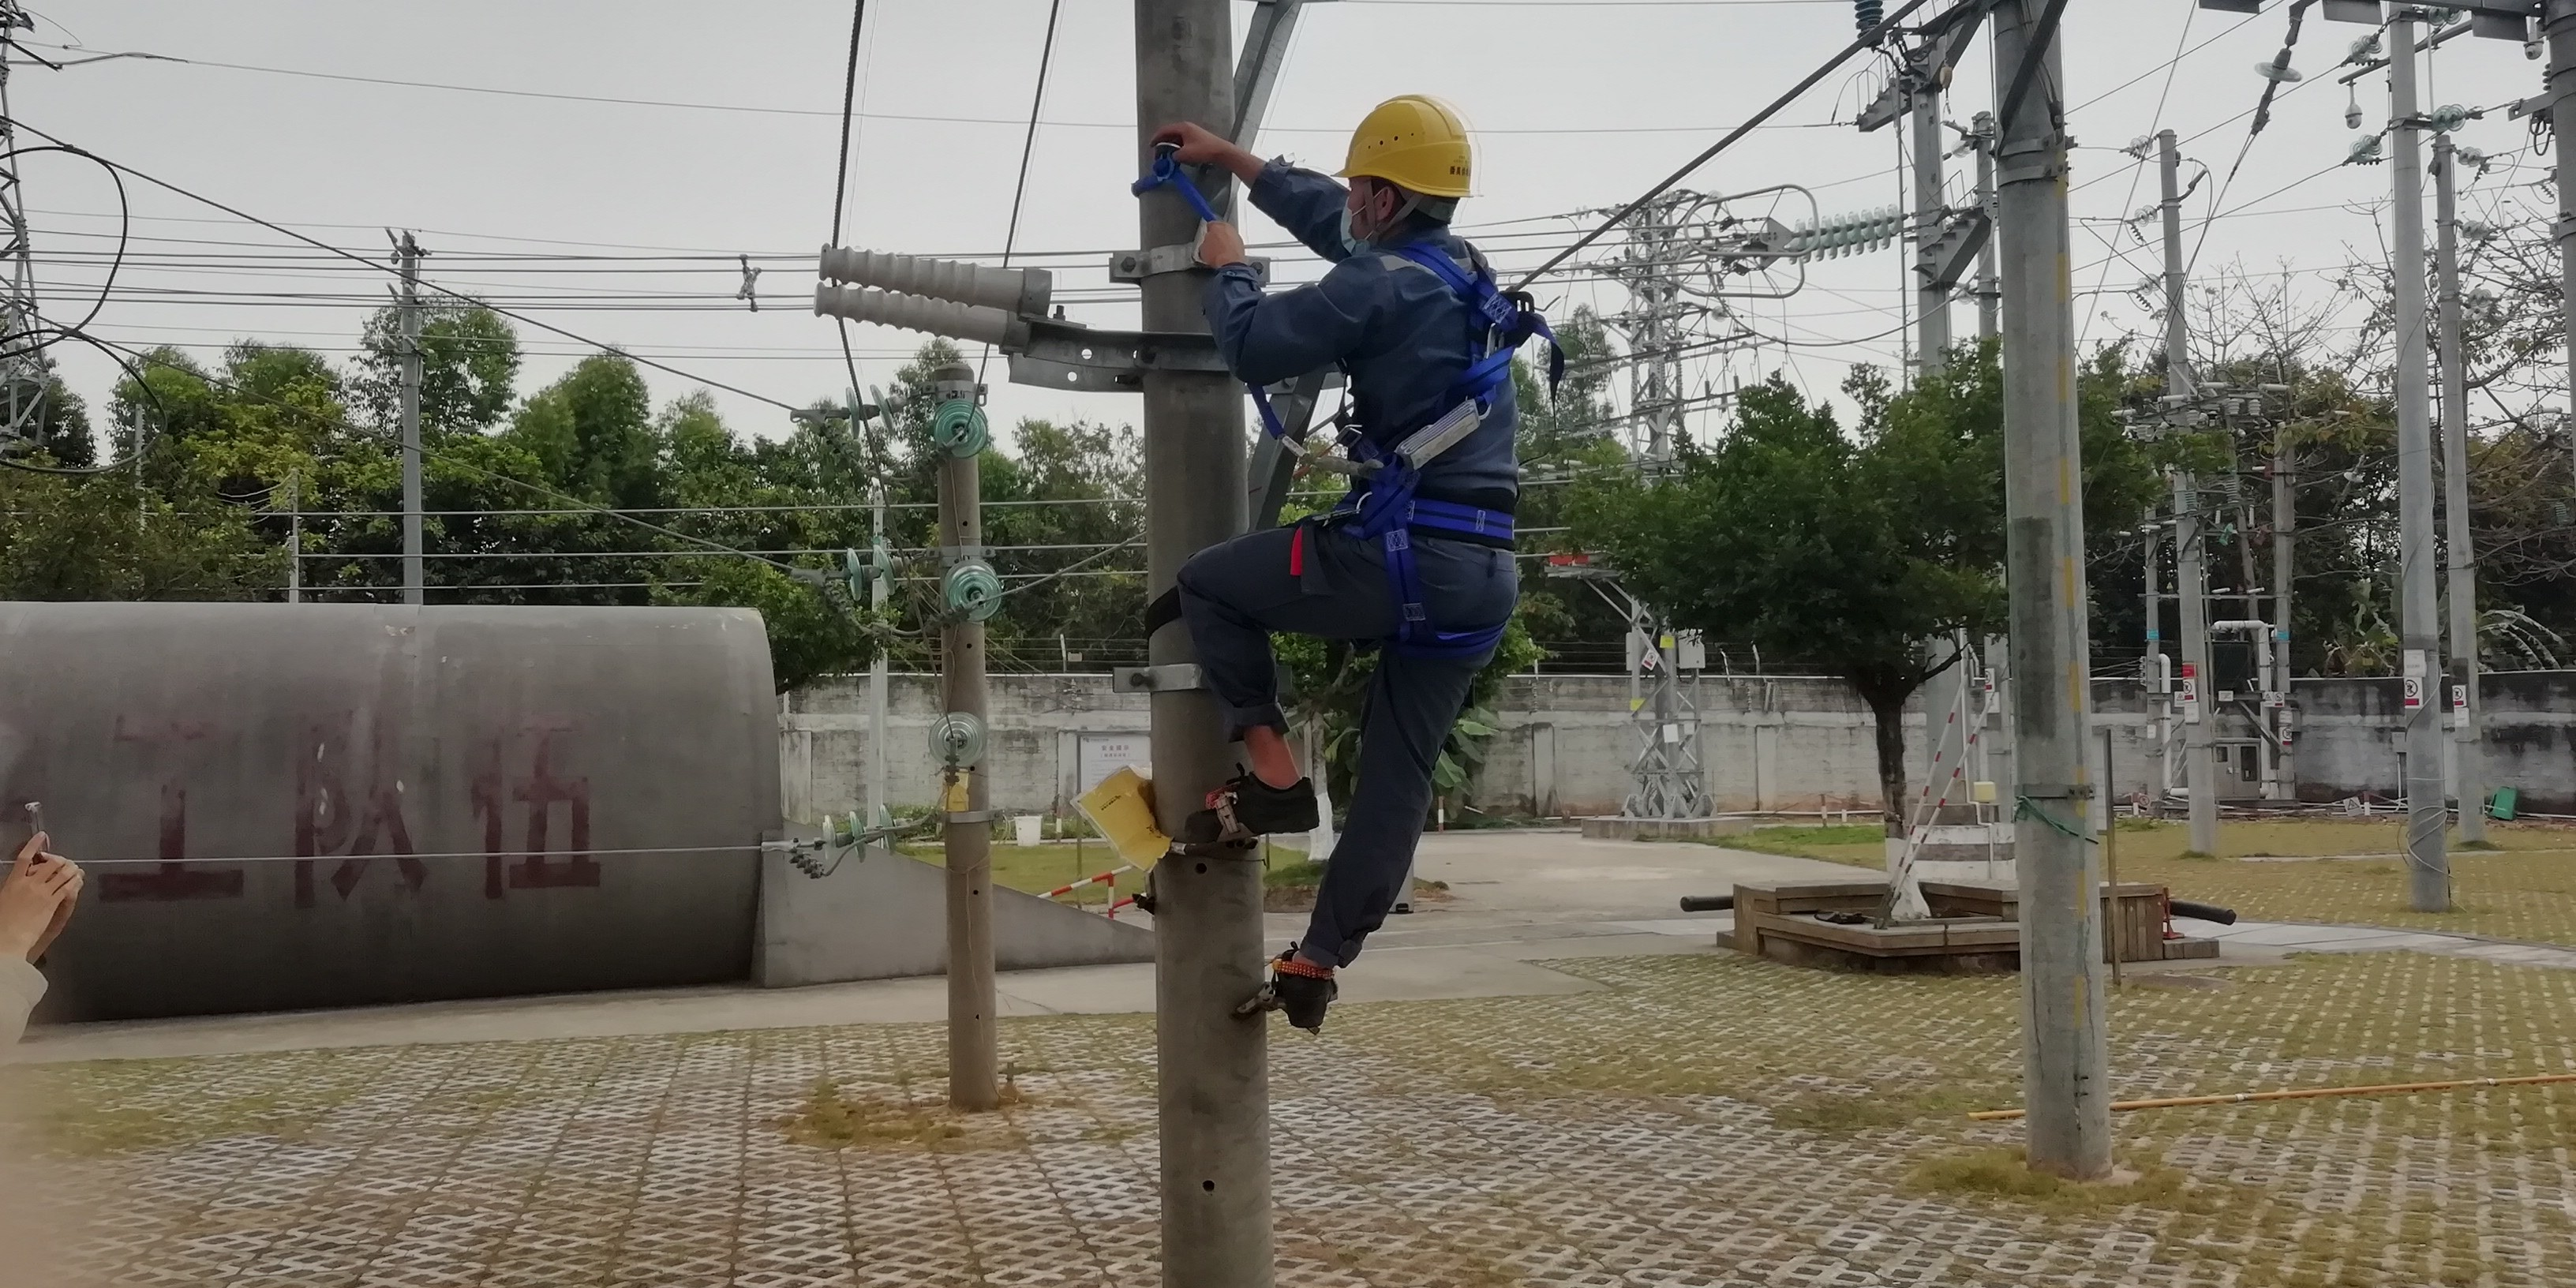downsuit: (1176, 537, 1520, 963)
upsuit: (1216, 228, 1531, 526)
